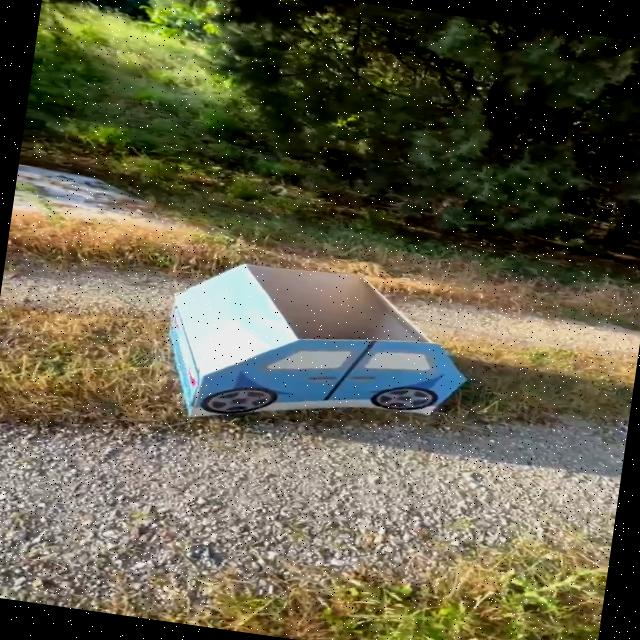blue_car: (91, 240, 555, 479)
